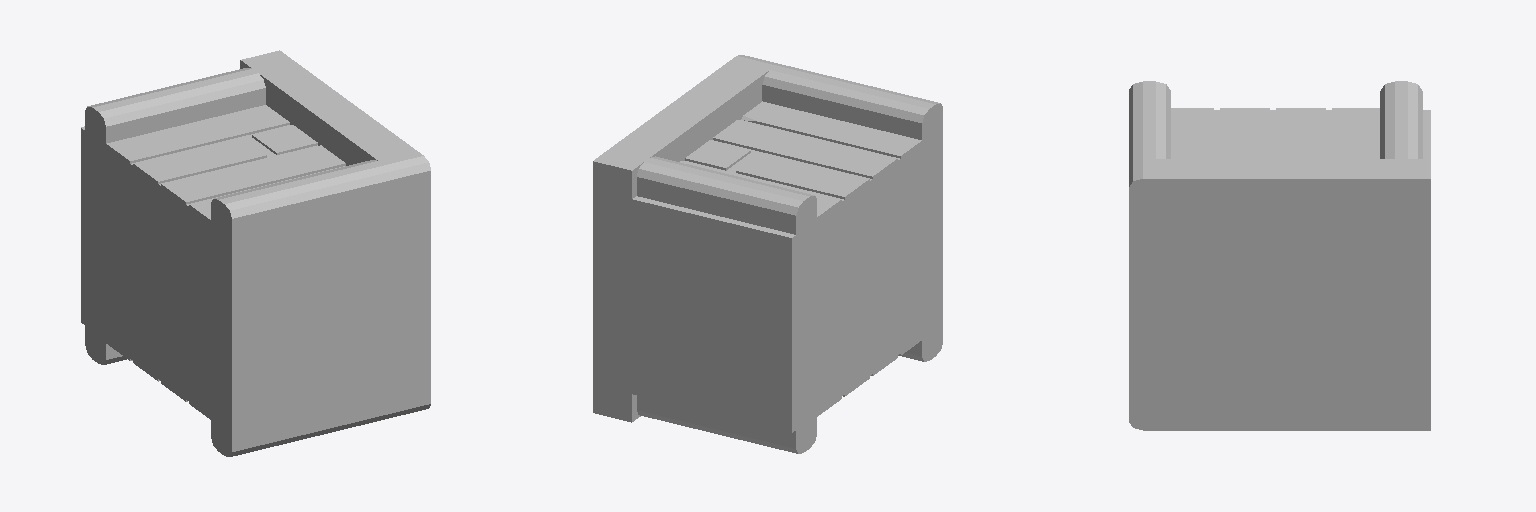
Rendered from Environment_Counter_End.obj.
3 views of the same model, side by side, from view 1: azimuth 30°, elevation 25°; view 2: azimuth 150°, elevation 25°; view 3: azimuth 270°, elevation 25° (orthographic).
Parts seen in each view (by area): view 1: Environment_Counter_End_Cube.032; view 2: Environment_Counter_End_Cube.032; view 3: Environment_Counter_End_Cube.032.
Part boxes in pixels (x1,y1,x2,y2): Environment_Counter_End_Cube.032: (81, 50, 430, 456); Environment_Counter_End_Cube.032: (593, 55, 942, 453); Environment_Counter_End_Cube.032: (1129, 81, 1430, 430).
Size of the model in its own units: 1.46 by 1.77 by 1.92.